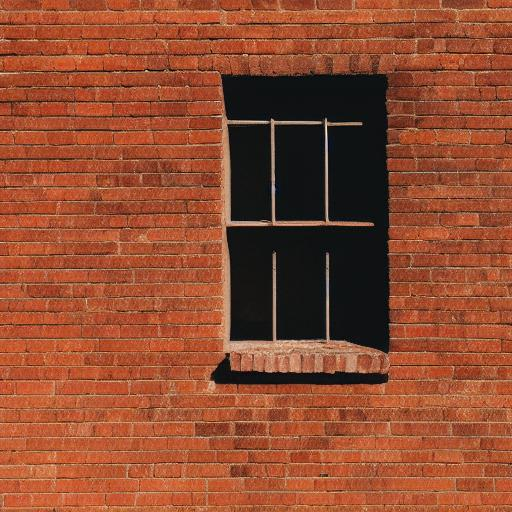Window: (216, 76, 395, 377)
